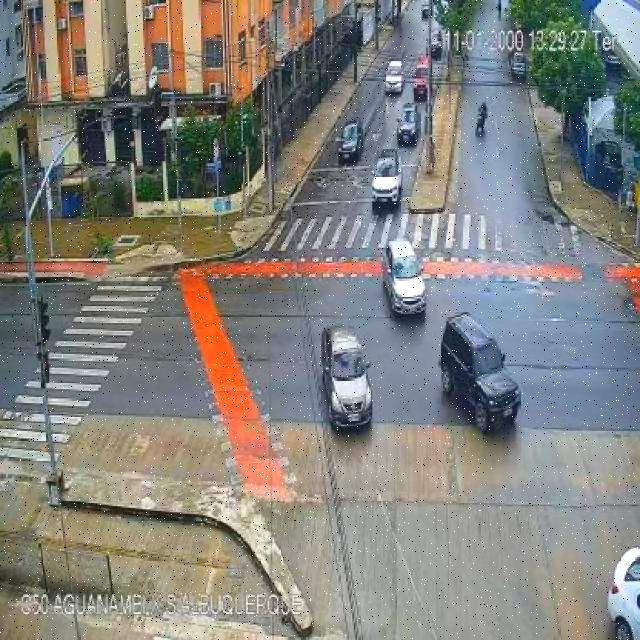Car: (437, 312, 523, 432), (319, 324, 375, 431), (381, 238, 428, 316), (608, 547, 639, 640), (370, 148, 403, 210), (594, 139, 624, 183), (337, 117, 365, 162), (397, 106, 419, 144), (384, 60, 405, 94), (510, 51, 527, 80), (426, 30, 444, 56)
Cycle: (474, 110, 488, 136)
Van: (412, 54, 434, 100)
